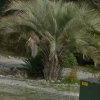Palm tree: (9, 3, 91, 81)
